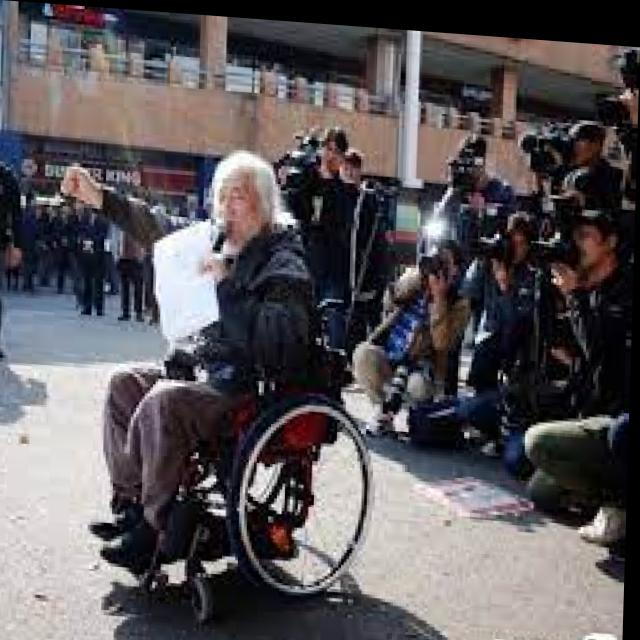wheelchair: (51, 141, 385, 630)
